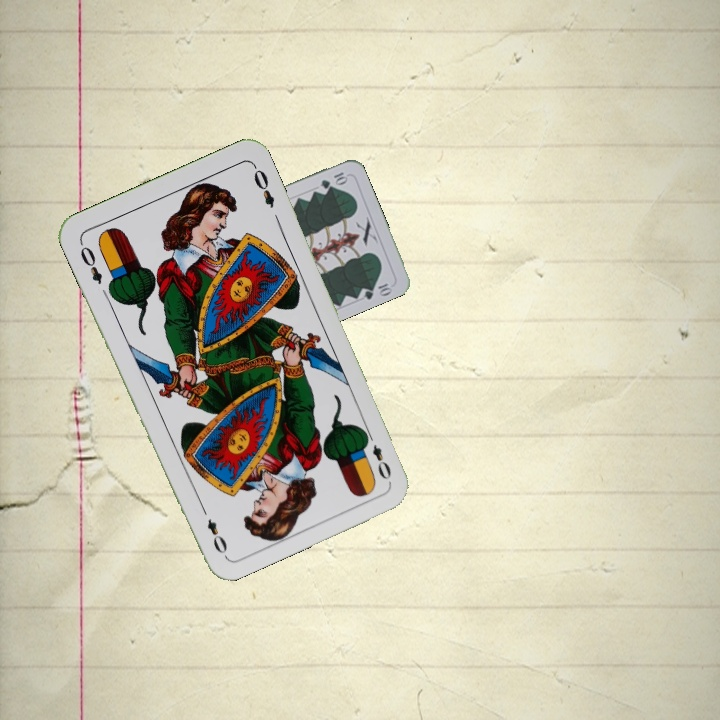EO: (361, 427, 394, 483), (75, 238, 105, 287)
G10: (317, 168, 350, 191)
